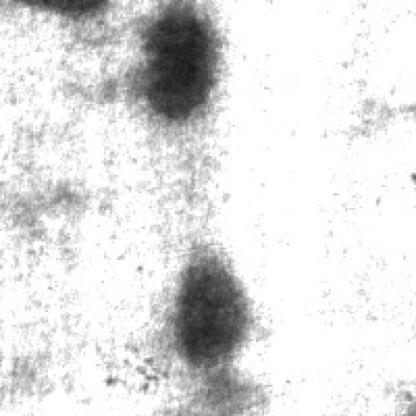patches: (125, 2, 218, 119), (165, 258, 246, 368)
